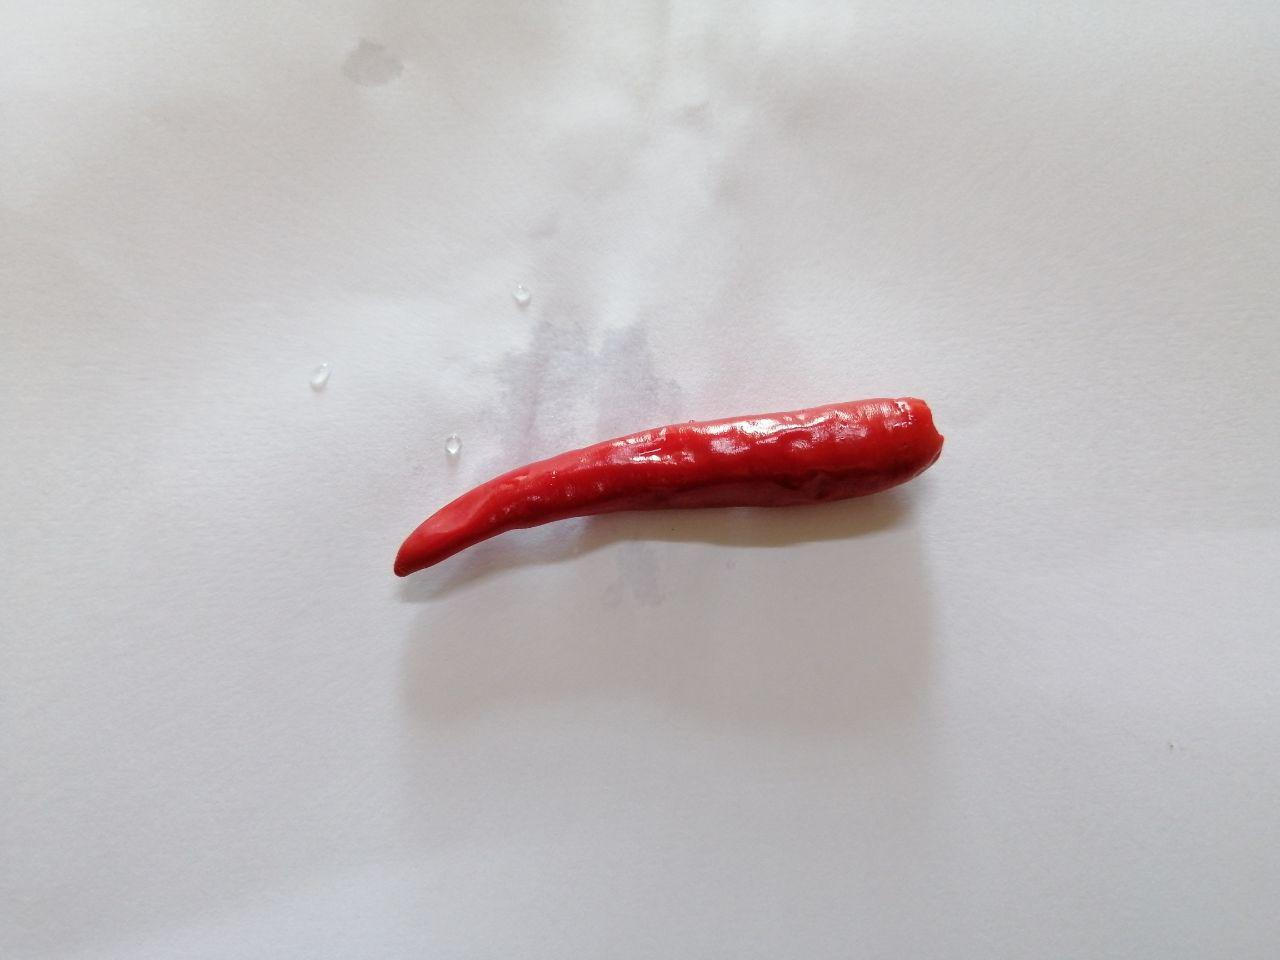lada merah: (378, 375, 959, 594)
